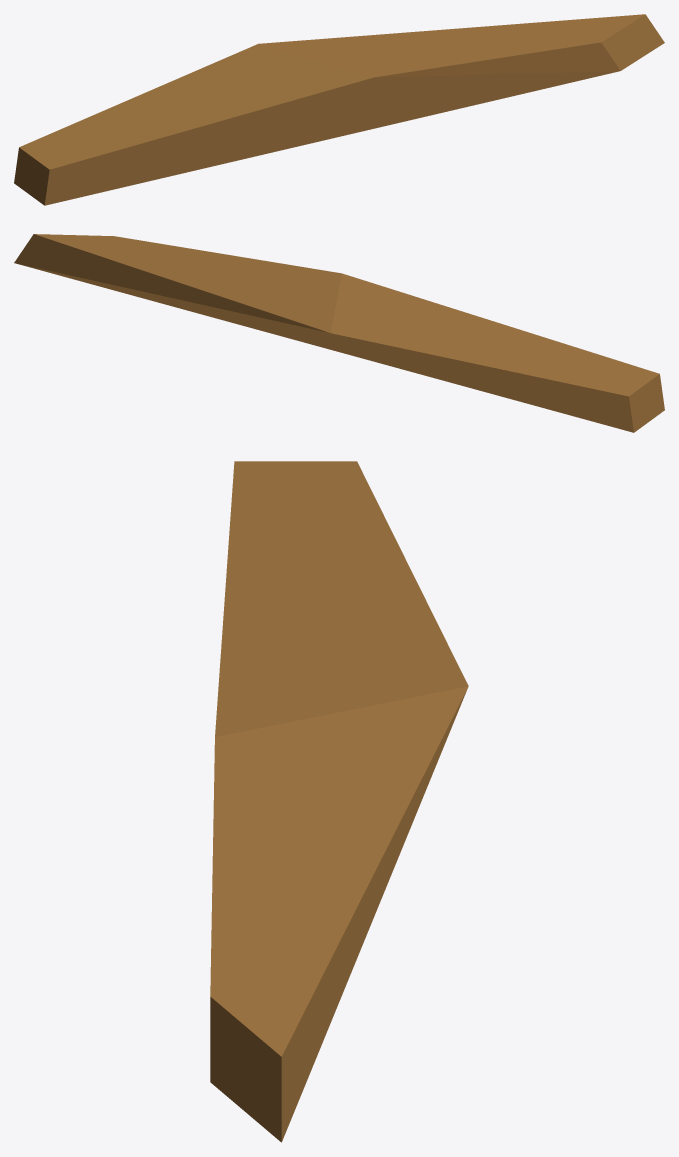
The model's file is polypterusDead_low.glb.
3 renders of one model, top to bottom at view 1: azimuth 30°, elevation 25°; view 2: azimuth 150°, elevation 25°; view 3: azimuth 270°, elevation 25°, orthographic. The views are drawn at different scales.
Visible parts, largest first — view 1: Cube; view 2: Cube; view 3: Cube.
Boxes of the visible parts, x1,y1,x2,y2 form: Cube: [14, 14, 664, 205]; Cube: [14, 234, 664, 432]; Cube: [210, 461, 468, 1142].
Bounding box in the file's own units: 0.9598 × 0.0764 × 0.1699.
